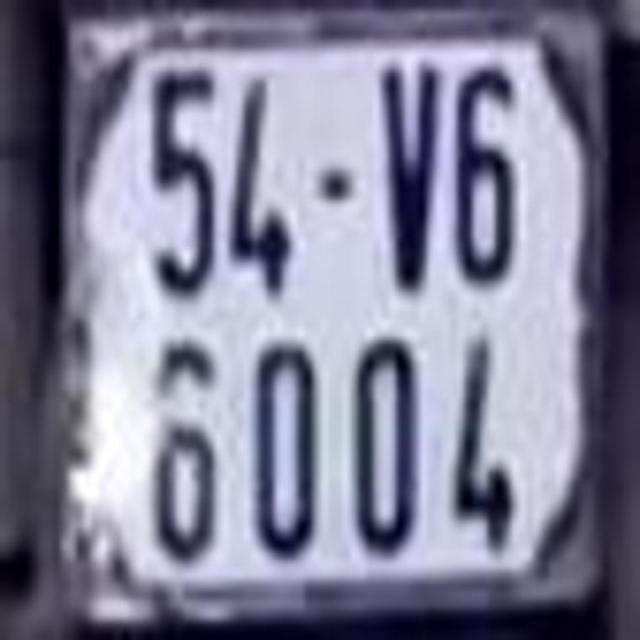0: (340, 328, 427, 559), (245, 336, 321, 562)
4: (224, 73, 300, 312), (448, 327, 522, 556)
5: (142, 62, 222, 300)
6: (146, 332, 225, 562), (450, 58, 520, 296)
V: (370, 56, 444, 300)
